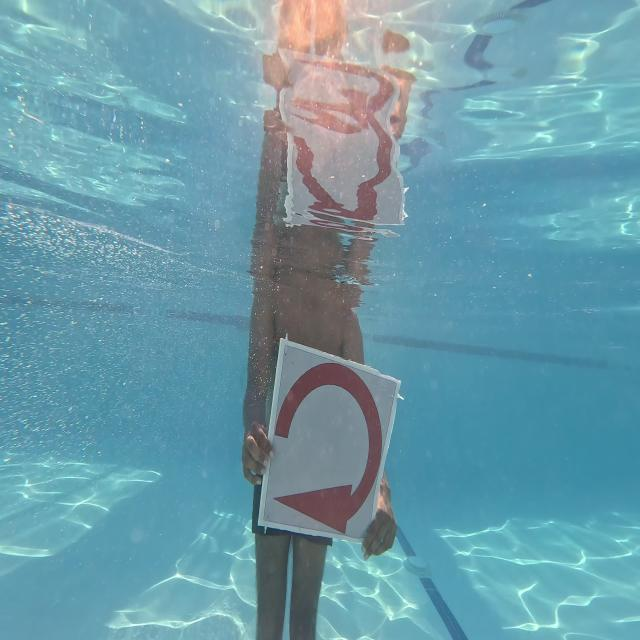red_side: (270, 331, 384, 550)
